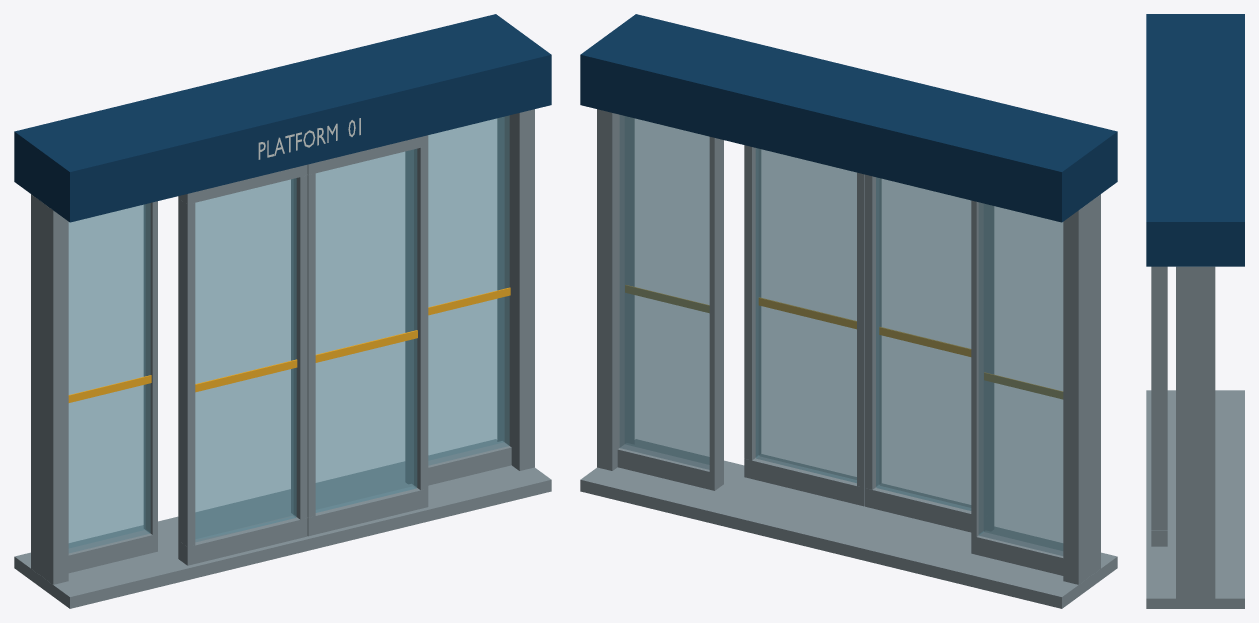
Rendered from sg-platform-screen-door.glb.
3 renders of one model, left to right at view 1: azimuth 30°, elevation 25°; view 2: azimuth 150°, elevation 25°; view 3: azimuth 270°, elevation 25°, orthographic. The views are drawn at different scales.
Parts seen in each view (by area): view 1: body, leaf_1, leaf_2; view 2: body, leaf_2, leaf_1; view 3: body, leaf_2.
Boxes of the visible parts, x1,y1,x2,y2 form: body: [14, 14, 551, 608]; leaf_1: [178, 164, 307, 565]; leaf_2: [307, 135, 428, 536]; body: [580, 14, 1117, 608]; leaf_2: [744, 145, 864, 506]; leaf_1: [865, 174, 993, 532]; body: [1146, 14, 1244, 608]; leaf_2: [1151, 266, 1167, 546].
Bounding box in the file's own units: 3 × 2.6 × 0.602.
